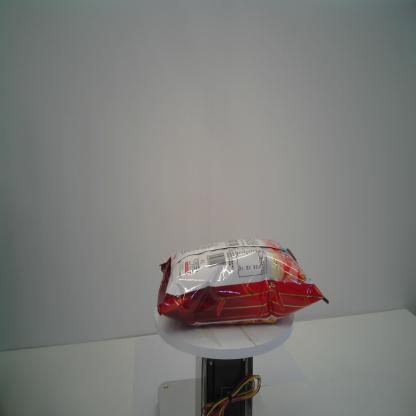Puffed Food: (157, 237, 330, 328)
